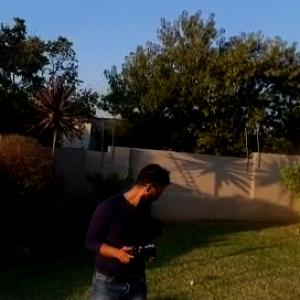follow: (80, 160, 174, 299)
